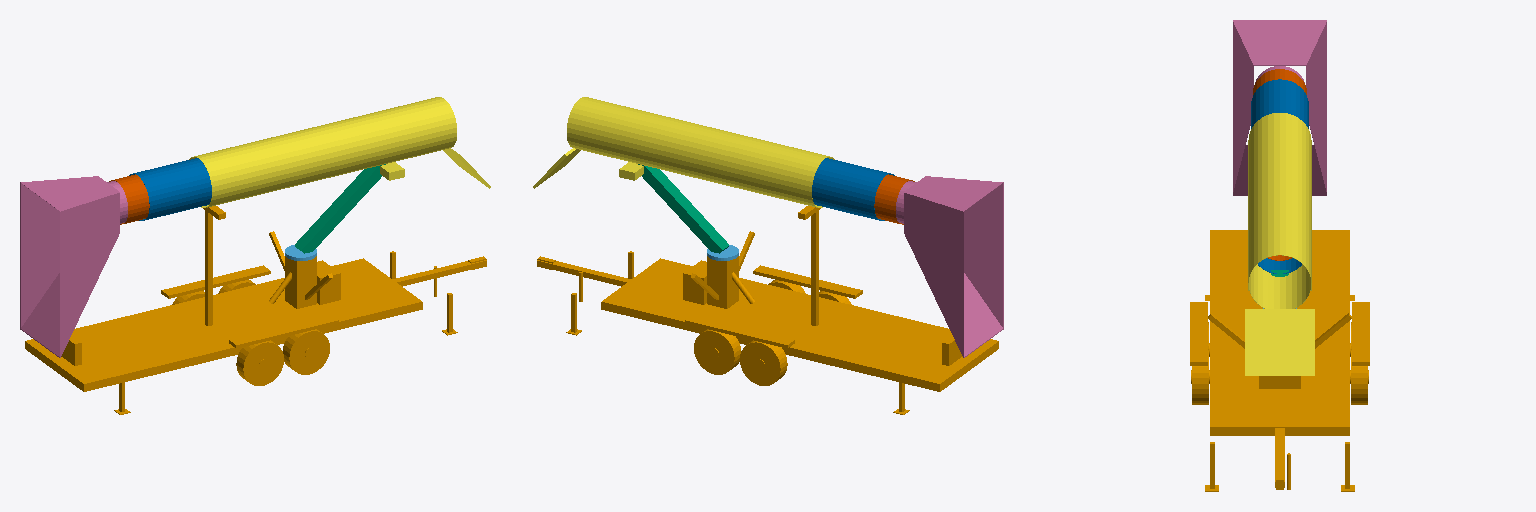
The robot description file, URDF, robot "tr5000_trash_rocket":
<?xml version="1.0"?>
<!-- cadpy:sourcePath=tr5000_1_urdf.py -->
<!-- cadpy:sourceHash=7cf2be15e39db9a13f10cca175171e34d1ebc17781ad13557d4031d691cf8716 -->
<robot name="tr5000_trash_rocket">
  <link name="base_link">
    <inertial>
      <origin xyz="-4.4 0 0.55" rpy="0 0 0" />
      <mass value="2950" />
      <inertia ixx="1959.29" iyy="19334.8" izz="20699.2" ixy="0" ixz="0" iyz="0" />
    </inertial>
    <visual>
      <origin xyz="0 0 0" rpy="0 0 0" />
      <geometry>
        <mesh filename="tr5000_1_meshes/base_link.stl" scale="0.001 0.001 0.001" />
      </geometry>
    </visual>
    <collision>
      <origin xyz="0 0 0" rpy="0 0 0" />
      <geometry>
        <mesh filename="tr5000_1_meshes/base_link.stl" scale="0.001 0.001 0.001" />
      </geometry>
    </collision>
  </link>
  <link name="turret">
    <inertial>
      <origin xyz="0 0 0.03" rpy="0 0 0" />
      <mass value="40" />
      <inertia ixx="1.06167" iyy="1.06167" izz="2.09067" ixy="0" ixz="0" iyz="0" />
    </inertial>
    <visual>
      <origin xyz="0 0 0" rpy="0 0 0" />
      <geometry>
        <mesh filename="tr5000_1_meshes/turret.stl" scale="0.001 0.001 0.001" />
      </geometry>
    </visual>
    <collision>
      <origin xyz="0 0 0" rpy="0 0 0" />
      <geometry>
        <mesh filename="tr5000_1_meshes/turret.stl" scale="0.001 0.001 0.001" />
      </geometry>
    </collision>
  </link>
  <link name="boom">
    <inertial>
      <origin xyz="0.82 0 0.66" rpy="0 0 0" />
      <mass value="180" />
      <inertia ixx="30.3375" iyy="72.75" izz="44.2875" ixy="0" ixz="0" iyz="0" />
    </inertial>
    <visual>
      <origin xyz="0 0 0" rpy="0 0 0" />
      <geometry>
        <mesh filename="tr5000_1_meshes/boom.stl" scale="0.001 0.001 0.001" />
      </geometry>
    </visual>
    <collision>
      <origin xyz="0 0 0" rpy="0 0 0" />
      <geometry>
        <mesh filename="tr5000_1_meshes/boom.stl" scale="0.001 0.001 0.001" />
      </geometry>
    </collision>
  </link>
  <link name="chute_1">
    <inertial>
      <origin xyz="-1.2 0 0.46" rpy="0 0 0" />
      <mass value="330" />
      <inertia ixx="46.552" iyy="683.551" izz="683.551" ixy="0" ixz="0" iyz="0" />
    </inertial>
    <visual>
      <origin xyz="0 0 0" rpy="0 0 0" />
      <geometry>
        <mesh filename="tr5000_1_meshes/chute_1.stl" scale="0.001 0.001 0.001" />
      </geometry>
    </visual>
    <collision>
      <origin xyz="0 0 0" rpy="0 0 0" />
      <geometry>
        <mesh filename="tr5000_1_meshes/chute_1.stl" scale="0.001 0.001 0.001" />
      </geometry>
    </collision>
  </link>
  <link name="chute_2">
    <inertial>
      <origin xyz="-2.5 0 0.46" rpy="0 0 0" />
      <mass value="240" />
      <inertia ixx="28.224" iyy="494.312" izz="494.312" ixy="0" ixz="0" iyz="0" />
    </inertial>
    <visual>
      <origin xyz="0 0 0" rpy="0 0 0" />
      <geometry>
        <mesh filename="tr5000_1_meshes/chute_2.stl" scale="0.001 0.001 0.001" />
      </geometry>
    </visual>
    <collision>
      <origin xyz="0 0 0" rpy="0 0 0" />
      <geometry>
        <mesh filename="tr5000_1_meshes/chute_2.stl" scale="0.001 0.001 0.001" />
      </geometry>
    </collision>
  </link>
  <link name="chute_3">
    <inertial>
      <origin xyz="-2.9 0 0.46" rpy="0 0 0" />
      <mass value="210" />
      <inertia ixx="21.8435" iyy="431.097" izz="431.097" ixy="0" ixz="0" iyz="0" />
    </inertial>
    <visual>
      <origin xyz="0 0 0" rpy="0 0 0" />
      <geometry>
        <mesh filename="tr5000_1_meshes/chute_3.stl" scale="0.001 0.001 0.001" />
      </geometry>
    </visual>
    <collision>
      <origin xyz="0 0 0" rpy="0 0 0" />
      <geometry>
        <mesh filename="tr5000_1_meshes/chute_3.stl" scale="0.001 0.001 0.001" />
      </geometry>
    </collision>
  </link>
  <link name="chute_4">
    <inertial>
      <origin xyz="-3.4 0 0.4" rpy="0 0 0" />
      <mass value="260" />
      <inertia ixx="62.3328" iyy="854.533" izz="873.533" ixy="0" ixz="0" iyz="0" />
    </inertial>
    <visual>
      <origin xyz="0 0 0" rpy="0 0 0" />
      <geometry>
        <mesh filename="tr5000_1_meshes/chute_4.stl" scale="0.001 0.001 0.001" />
      </geometry>
    </visual>
    <collision>
      <origin xyz="0 0 0" rpy="0 0 0" />
      <geometry>
        <mesh filename="tr5000_1_meshes/chute_4.stl" scale="0.001 0.001 0.001" />
      </geometry>
    </collision>
  </link>
  <joint name="turret_slew" type="revolute">
    <parent link="base_link" />
    <child link="turret" />
    <origin xyz="-3.6576 0 1.64084" rpy="0 0 0" />
    <axis xyz="0 0 1" />
    <limit lower="-3.14159" upper="3.14159" effort="8000" velocity="0.5" />
  </joint>
  <joint name="boom_lift" type="revolute">
    <parent link="turret" />
    <child link="boom" />
    <origin xyz="0 0 0.05916" rpy="0 0 0" />
    <axis xyz="0 -1 0" />
    <limit lower="0" upper="0.698132" effort="60000" velocity="0.25" />
  </joint>
  <joint name="chute_pitch" type="revolute">
    <parent link="boom" />
    <child link="chute_1" />
    <origin xyz="1.6456 0 1.3226" rpy="0 0 0" />
    <axis xyz="0 1 0" />
    <limit lower="-0.0872665" upper="1.72788" effort="60000" velocity="0.25" />
  </joint>
  <joint name="telescope_2" type="prismatic">
    <parent link="chute_1" />
    <child link="chute_2" />
    <origin xyz="0 0 0" rpy="0 0 0" />
    <axis xyz="-1 0 0" />
    <limit lower="0" upper="2.05057" effort="15000" velocity="0.4" />
  </joint>
  <joint name="telescope_3" type="prismatic">
    <parent link="chute_2" />
    <child link="chute_3" />
    <origin xyz="0 0 0" rpy="0 0 0" />
    <axis xyz="-1 0 0" />
    <limit lower="0" upper="2.05057" effort="15000" velocity="0.4" />
  </joint>
  <joint name="telescope_4" type="prismatic">
    <parent link="chute_3" />
    <child link="chute_4" />
    <origin xyz="0 0 0" rpy="0 0 0" />
    <axis xyz="-1 0 0" />
    <limit lower="0" upper="2.05057" effort="15000" velocity="0.4" />
  </joint>
</robot>

--- Render facts (derived) ---
The picture shows the robot from 3 angles, left to right: view 1: azimuth 30°, elevation 25°; view 2: azimuth 150°, elevation 25°; view 3: azimuth 270°, elevation 25°; orthographic projection.
Robot: tr5000_trash_rocket — 7 links, 6 joints (3 revolute, 3 prismatic); root link base_link; default pose: all joints at 0.
Links seen in each view (by area): view 1: base_link, chute_1, chute_4, chute_2, boom, chute_3; view 2: base_link, chute_1, chute_4, chute_2, boom, chute_3; view 3: base_link, chute_1, chute_4, chute_2, chute_3.
Boxes of the visible links, x1,y1,x2,y2 form: base_link: (25,206,486,414); chute_1: (189,97,490,207); chute_4: (20,176,127,357); chute_2: (129,158,211,220); boom: (295,164,385,253); chute_3: (109,174,149,224); base_link: (537,206,998,414); chute_1: (533,97,834,207); chute_4: (896,176,1003,357); chute_2: (812,158,894,220); boom: (638,164,728,253); chute_3: (874,174,914,224); base_link: (1190,230,1369,491); chute_1: (1245,113,1314,375); chute_4: (1233,20,1326,195); chute_2: (1251,79,1308,273); chute_3: (1253,69,1306,260).
Size in the robot's own frame: 8.84 by 2.59 by 3.94 metres.
Meshes: 7 distinct files referenced, 7 mesh visuals loaded (7 binary STL).
